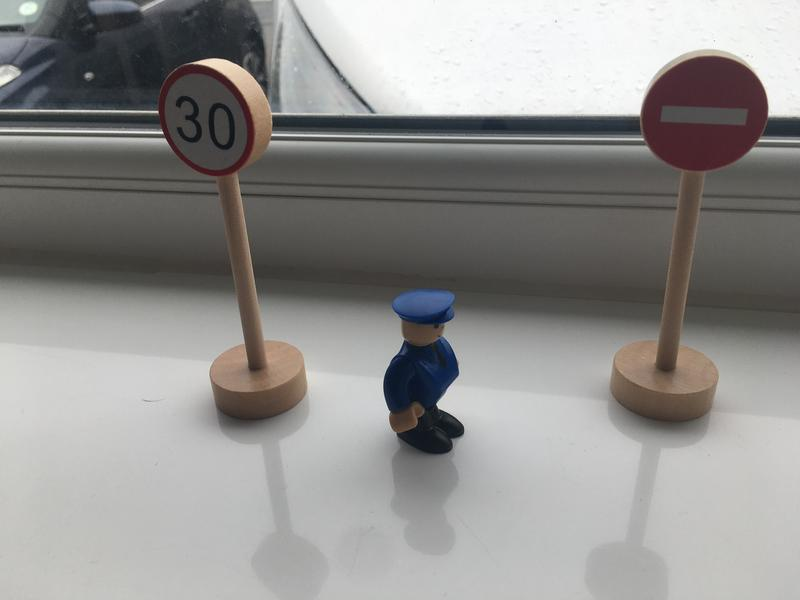Traffic_Sign_30: (157, 65, 254, 175)
Traffic_Sign_No_Entry: (642, 56, 769, 173)
person: (383, 291, 471, 458)
